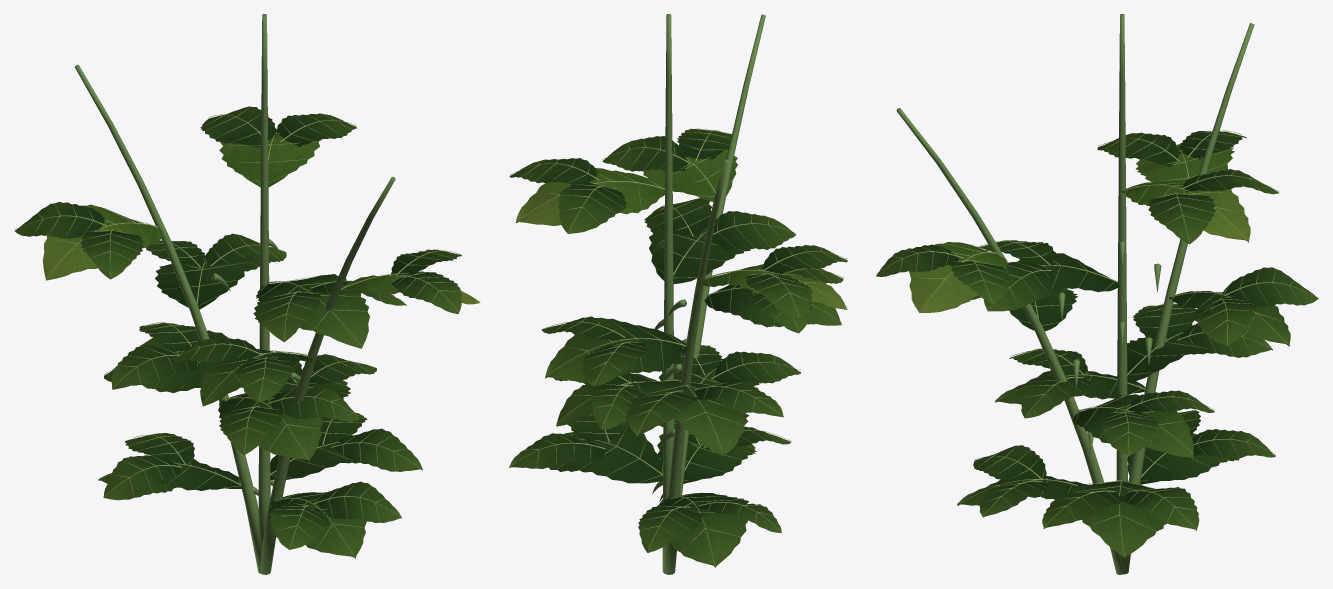
File: rose-06.glb
3 views of the same model, side by side, from view 1: azimuth 30°, elevation 25°; view 2: azimuth 150°, elevation 25°; view 3: azimuth 270°, elevation 25° (orthographic).
Visible parts, largest first — view 1: rose_stage_06_leaf_veins.010, rose_stage_06_stem_fibres.010, rose_stage_06_raised_midveins.010, rose_stage_06_young_leaf.010; view 2: rose_stage_06_leaf_veins.010, rose_stage_06_stem_fibres.010, rose_stage_06_raised_midveins.010, rose_stage_06_young_leaf.010; view 3: rose_stage_06_leaf_veins.010, rose_stage_06_stem_fibres.010, rose_stage_06_young_leaf.010, rose_stage_06_raised_midveins.010.
Boxes of the visible parts, x1,y1,x2,y2 form: rose_stage_06_leaf_veins.010: [14, 106, 461, 558]; rose_stage_06_stem_fibres.010: [75, 14, 395, 574]; rose_stage_06_raised_midveins.010: [14, 106, 480, 556]; rose_stage_06_young_leaf.010: [42, 129, 479, 304]; rose_stage_06_leaf_veins.010: [509, 128, 847, 567]; rose_stage_06_stem_fibres.010: [652, 14, 765, 574]; rose_stage_06_raised_midveins.010: [510, 128, 847, 565]; rose_stage_06_young_leaf.010: [516, 149, 847, 309]; rose_stage_06_leaf_veins.010: [876, 131, 1318, 557]; rose_stage_06_stem_fibres.010: [896, 14, 1254, 574]; rose_stage_06_young_leaf.010: [909, 144, 1250, 312]; rose_stage_06_raised_midveins.010: [876, 130, 1318, 556].
Size of the model in its own units: 0.245 by 0.3837 by 0.2758.
Materials: 4 (2 with a texture image).
